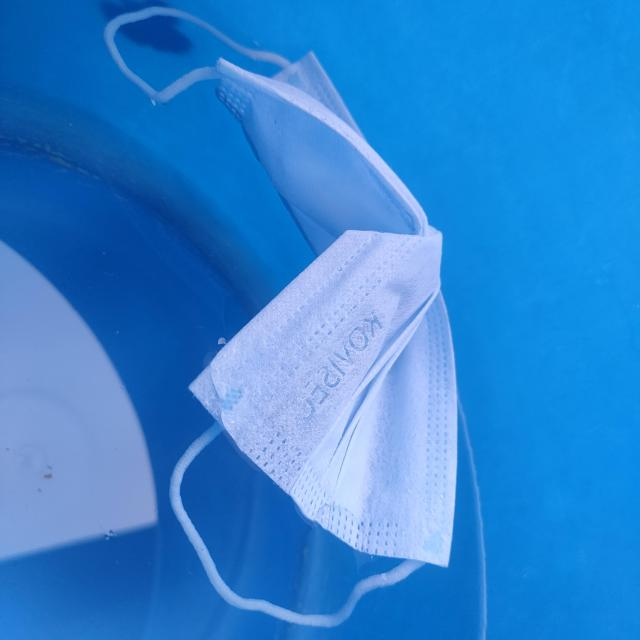litter: (97, 0, 484, 640)
